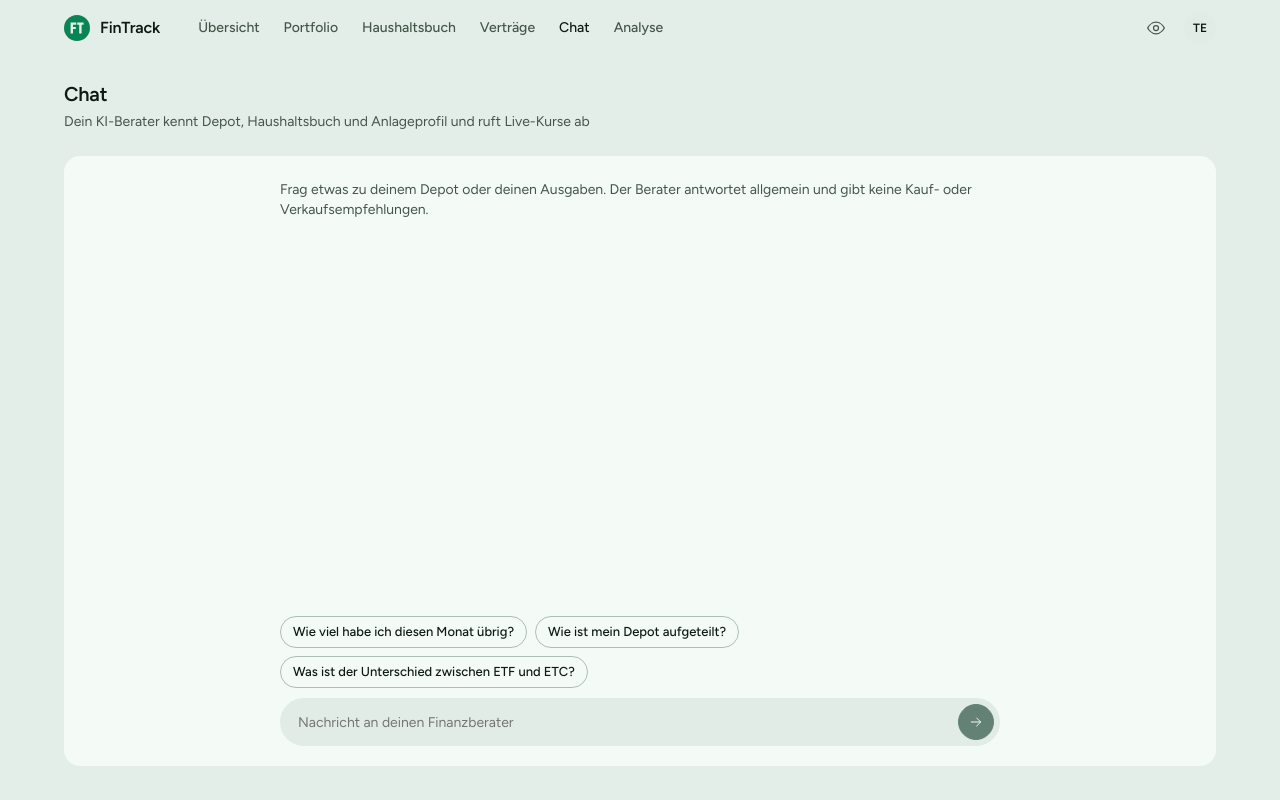
Test case: Chat › schlägt in einem leeren Chat Fragen vor
What coordinates should you click on to do the following:
click the button "Wie ist mein Depot aufgeteilt?"
I would click on:
 (637, 632)
Its box is [535,616,739,648].
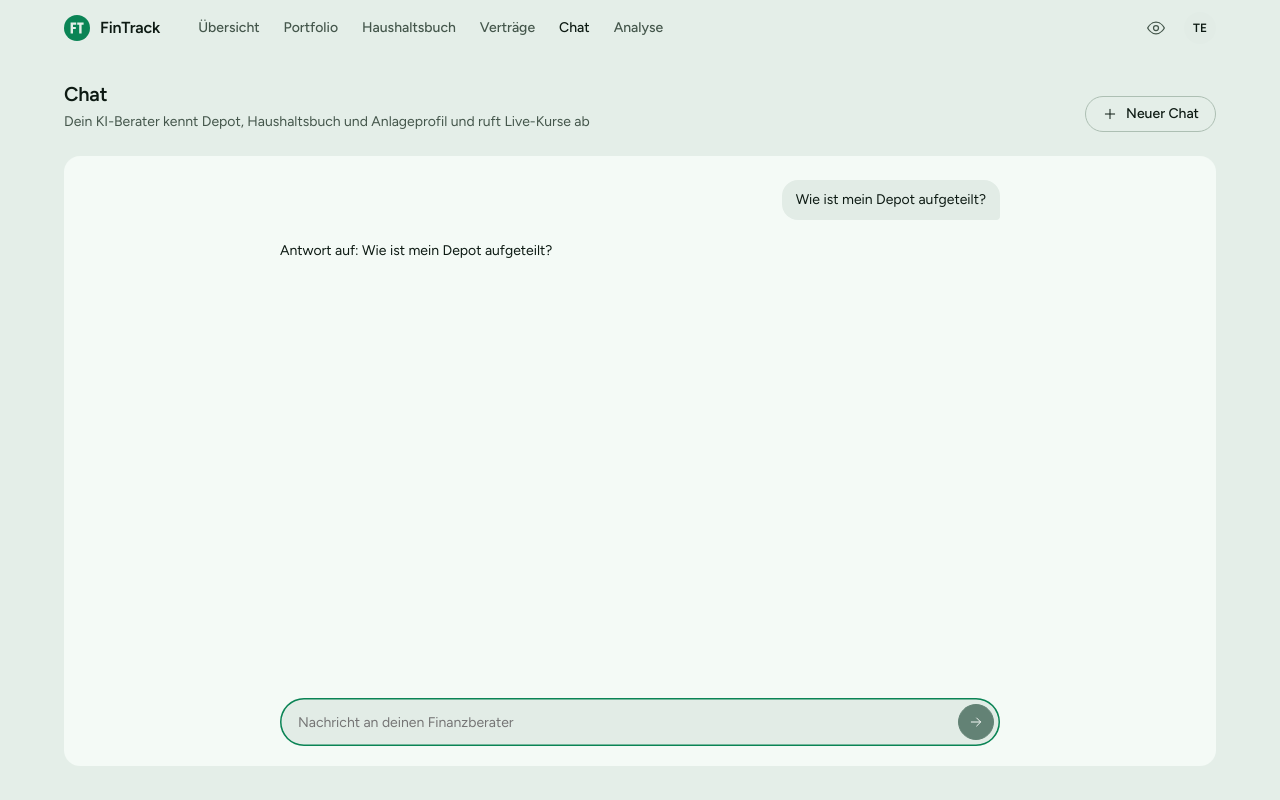
expect the text "Wie ist mein Depot aufgeteilt?" is shown: met, box [782,180,1000,220]
expect the text "Antwort auf: Wie ist mein Depot aufgeteilt?" is shown: met, box [280,242,552,259]
